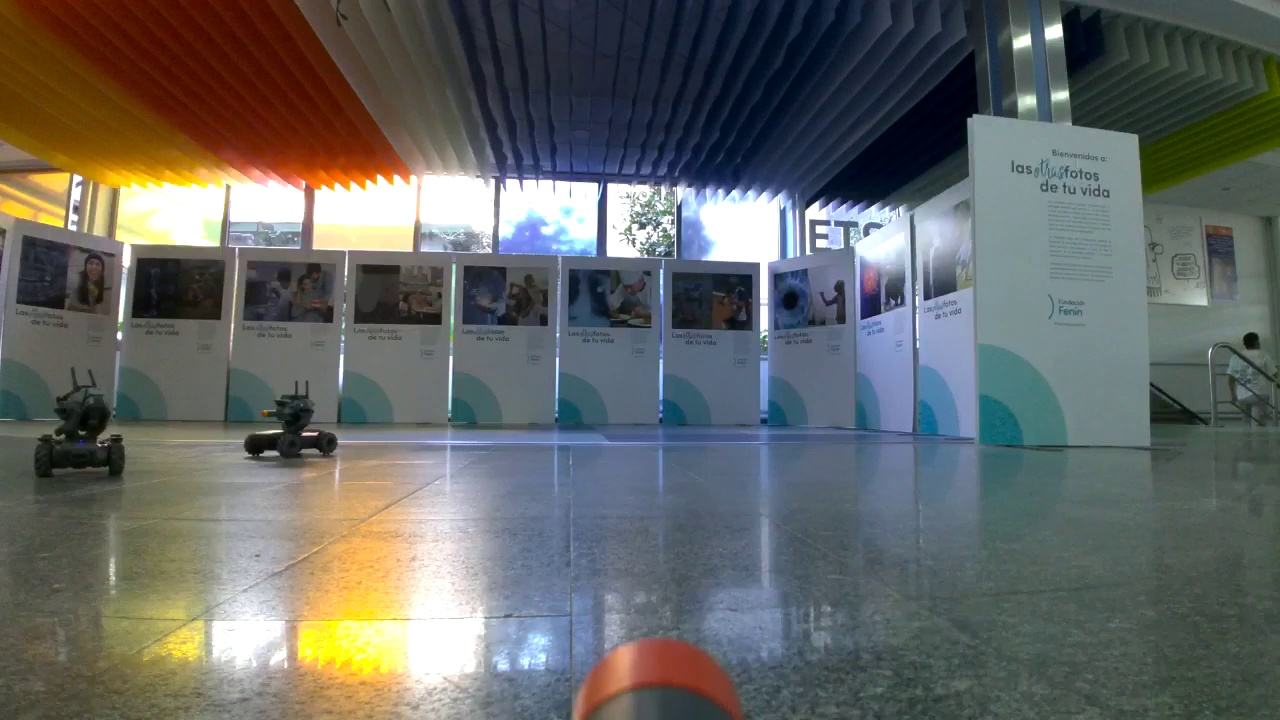robot: (32, 384, 129, 475), (242, 392, 340, 462)
